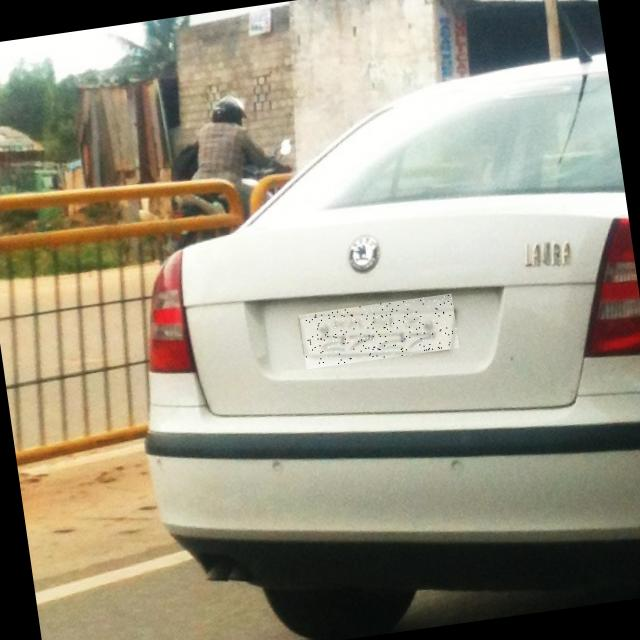Plate: (300, 295, 460, 371)
